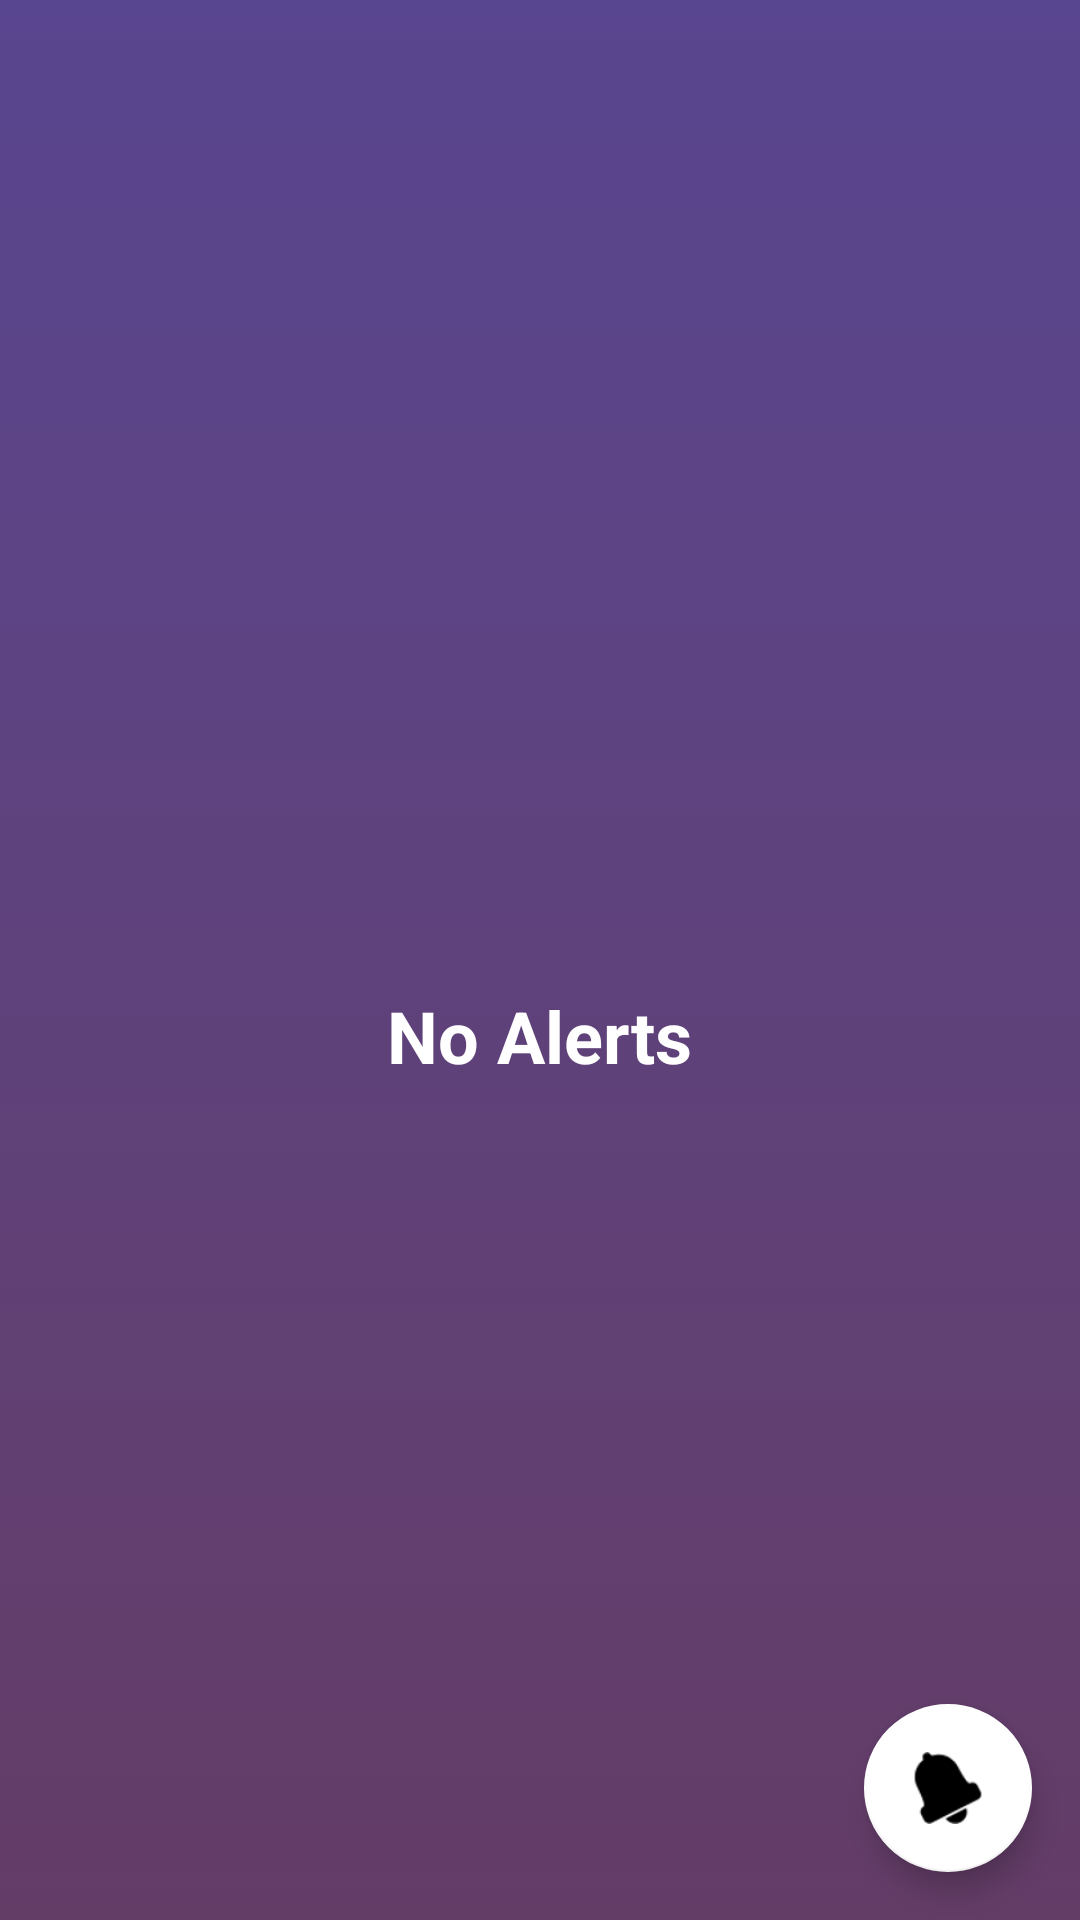

Screen size 1080 × 1920. Icon name, then its center in pixels as point (x, y):
Weather Alarm: point (948, 1788)
